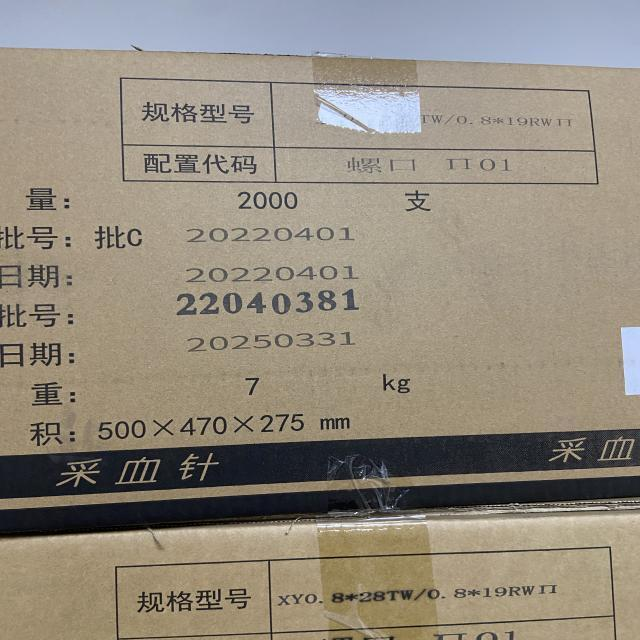box: (2, 50, 640, 542), (0, 499, 638, 640)
